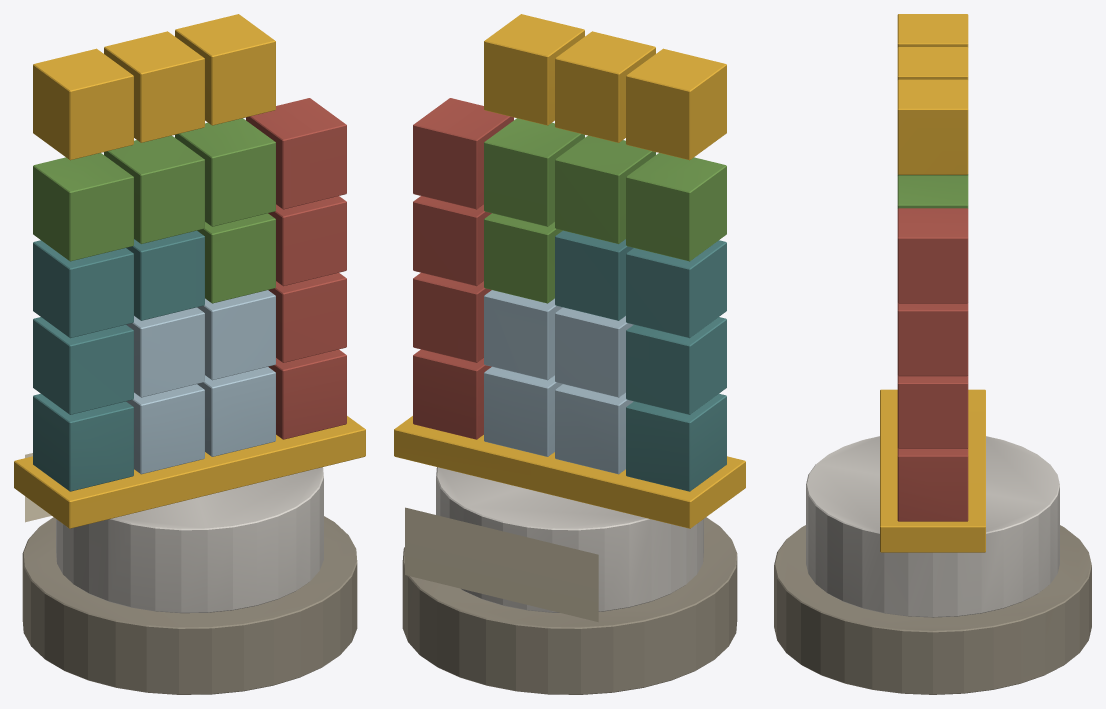
The model's file is trophy_blocks.glb.
3 renders of one model, left to right at view 1: azimuth 30°, elevation 25°; view 2: azimuth 150°, elevation 25°; view 3: azimuth 270°, elevation 25°, orthographic. The views are drawn at different scales.
Parts seen in each view (by area): view 1: symbol, common_pedestal; view 2: symbol, common_pedestal, trophy_plate; view 3: common_pedestal, symbol.
Boxes of the visible parts, x1,y1,x2,y2 form: symbol: [14, 14, 365, 528]; common_pedestal: [22, 467, 357, 694]; symbol: [394, 14, 745, 528]; common_pedestal: [402, 467, 737, 694]; trophy_plate: [405, 507, 598, 622]; common_pedestal: [774, 436, 1091, 694]; symbol: [880, 14, 985, 552].
Size of the model in its own units: 0.92 by 1.72 by 0.9.
